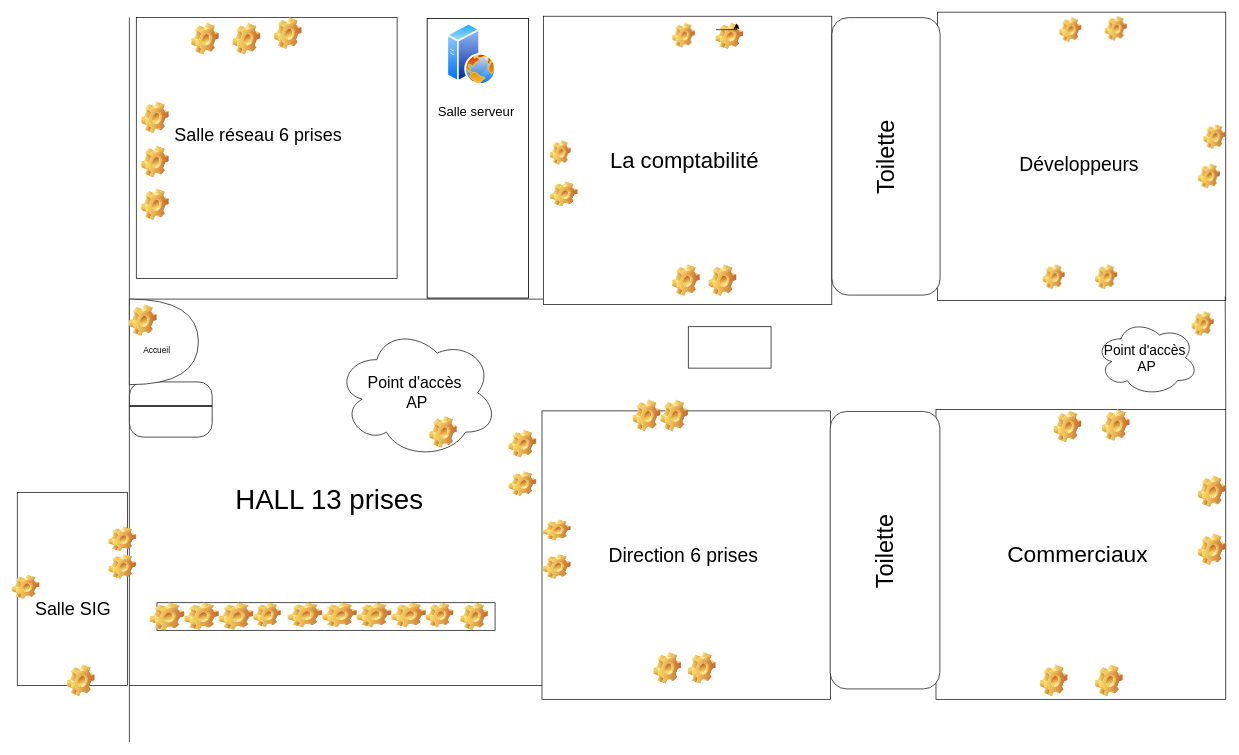
Some shapes in this 1239 by 755 pixel diagram are drawn without their labels. The centre of each missing label's shape, as x and y in pixels:
"Le couloir" goes at [729,347].
"Porte principale" goes at [170,409].
